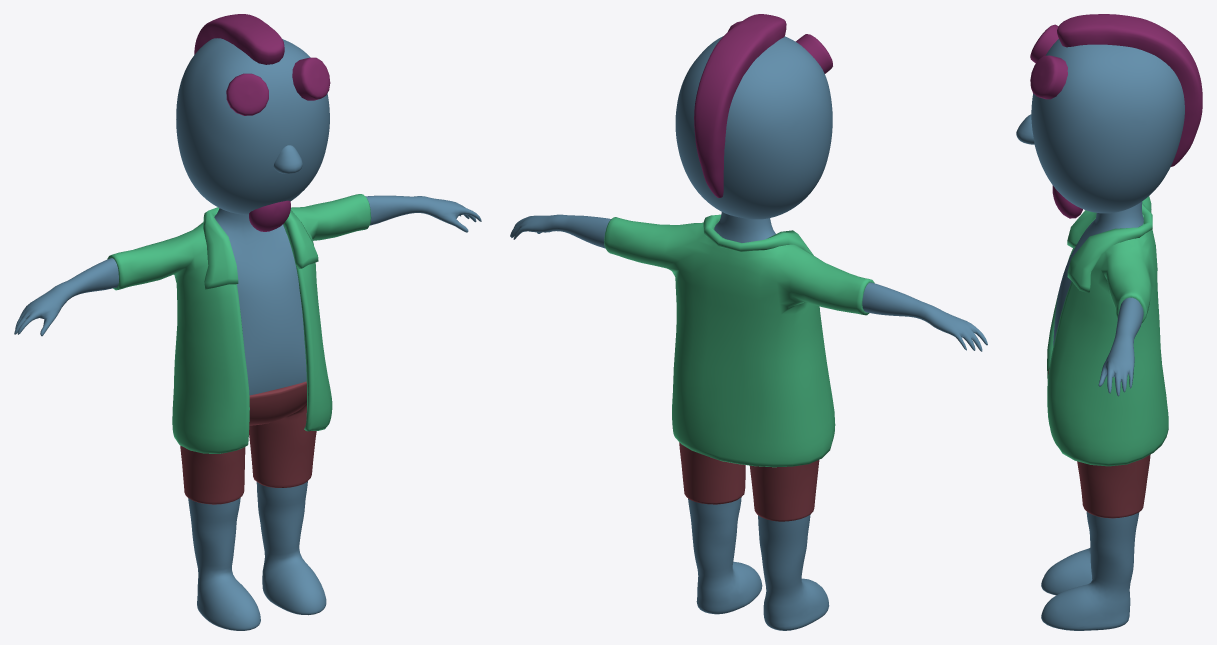
Rendered from uploads_files_2551386_helboy.fbx.
The picture shows the model from 3 angles, left to right: view 1: azimuth 30°, elevation 25°; view 2: azimuth 150°, elevation 25°; view 3: azimuth 270°, elevation 25°; orthographic projection. The views are drawn at different scales.
Visible parts, largest first — view 1: vucut1, ceket, short, boynuz; view 2: ceket, vucut1, boynuz, short; view 3: vucut1, ceket, boynuz, short.
Boxes of the visible parts, x1,y1,x2,y2 form: vucut1: (14,38,481,630); ceket: (107,194,371,453); short: (180,381,316,504); boynuz: (194,14,330,231); ceket: (604,214,874,467); vucut1: (510,36,987,630); boynuz: (694,14,832,197); short: (679,442,819,521); vucut1: (1016,39,1184,630); ceket: (1047,196,1168,466); boynuz: (1030,14,1202,218); short: (1048,368,1150,518).
Bounding box in the file's own units: 7.11 × 8.46 × 2.44.
